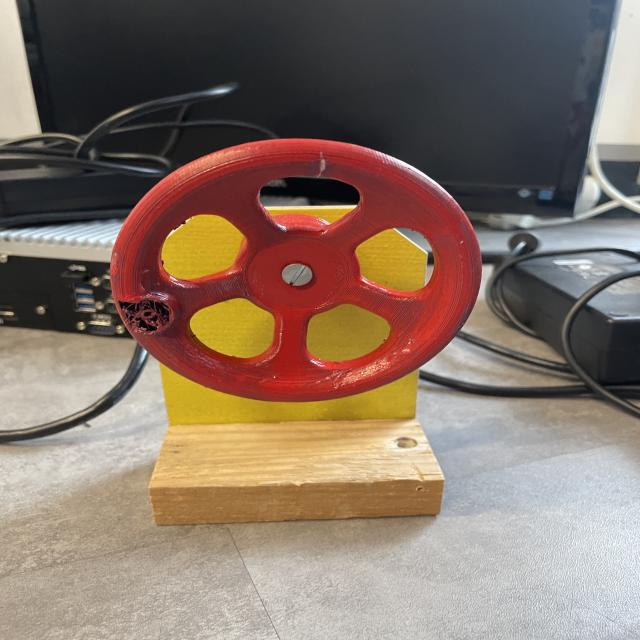Wheel Handle Valve Threaded: (108, 136, 484, 404)
